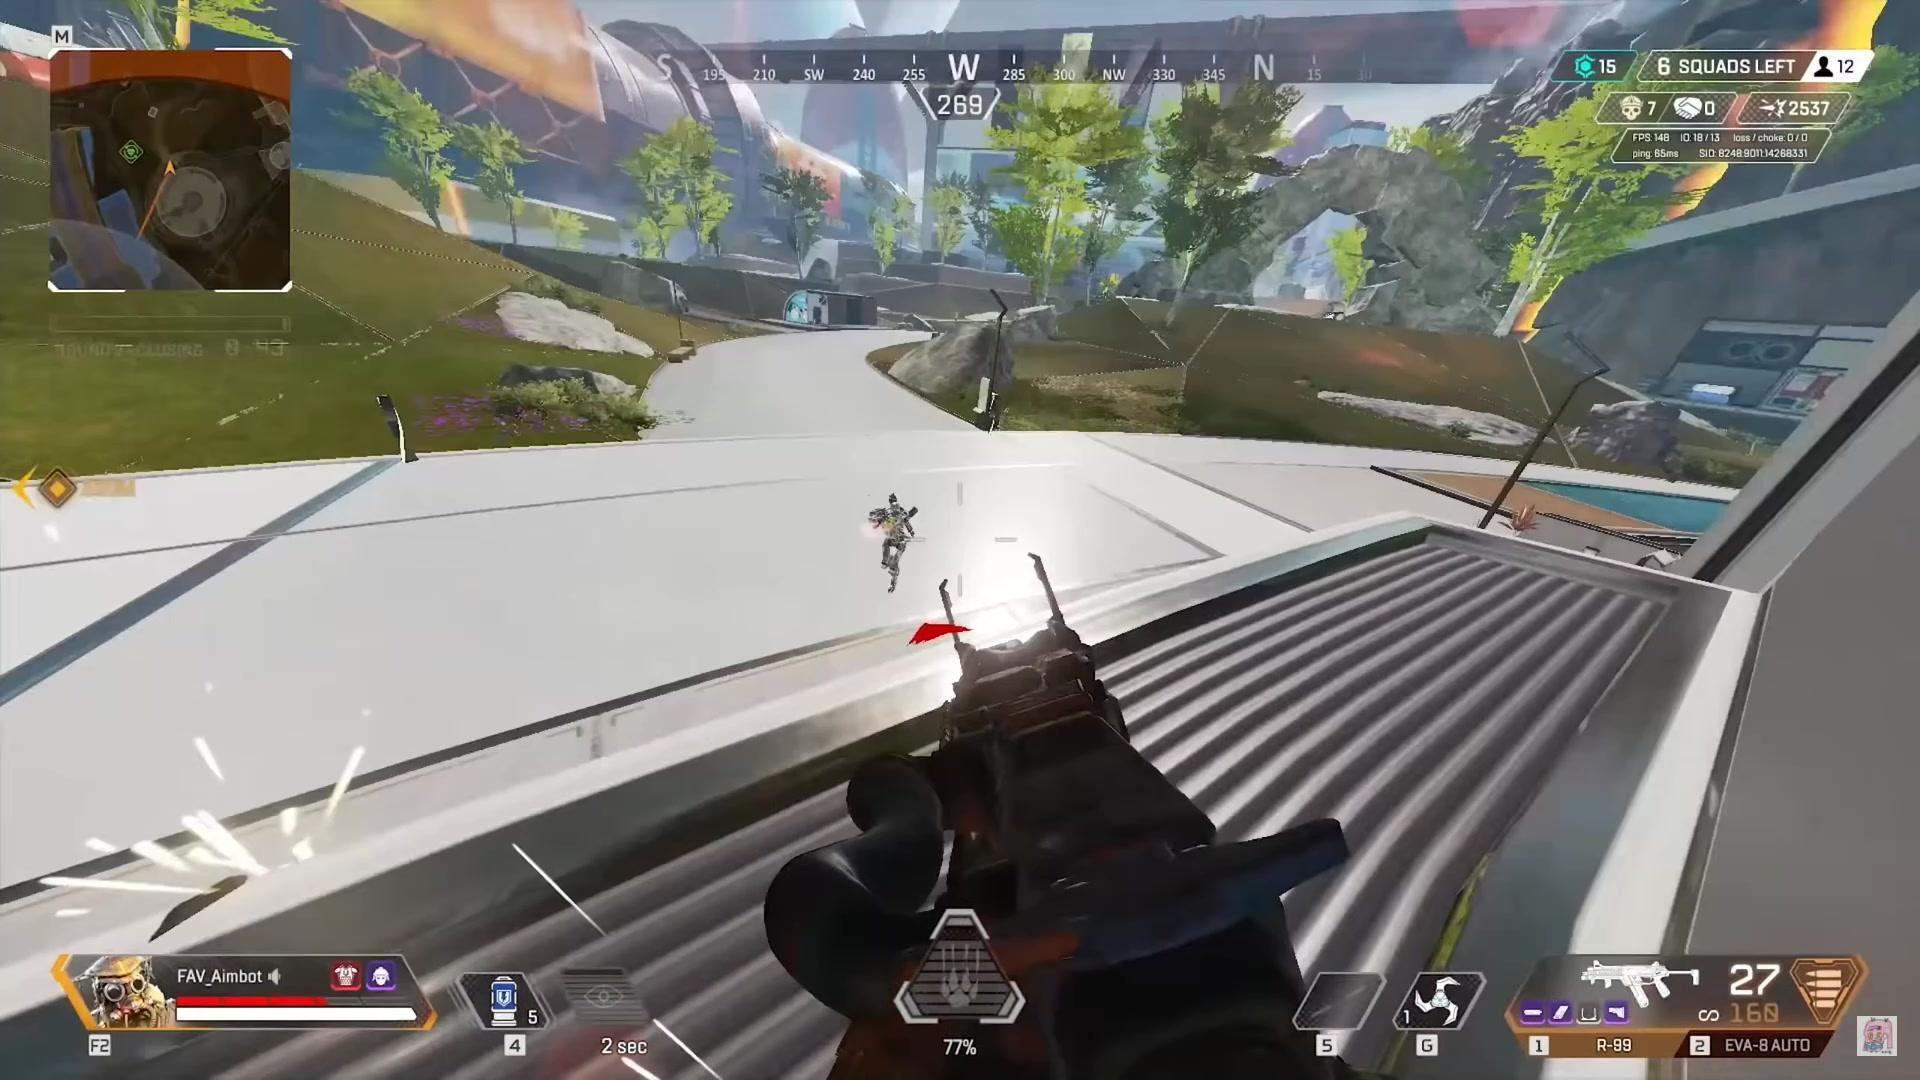avatar: (866, 490, 921, 595)
